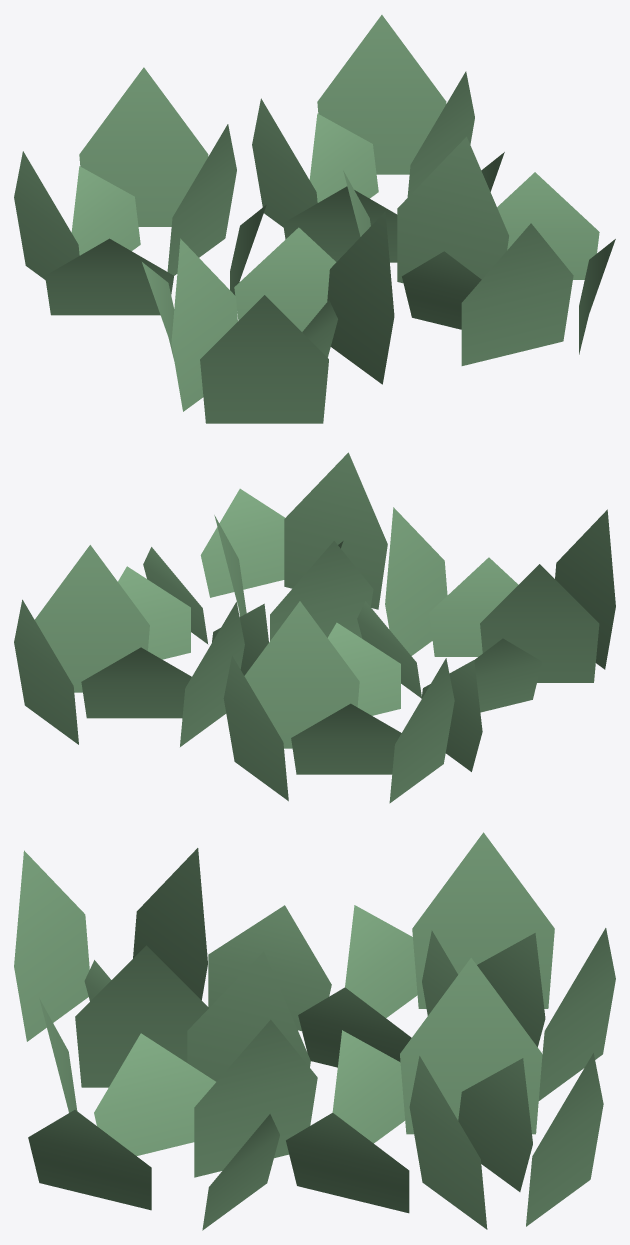
File: tuft_c.glb
3 views of the same model, one above another, from view 1: azimuth 30°, elevation 25°; view 2: azimuth 150°, elevation 25°; view 3: azimuth 270°, elevation 25° (orthographic). The views are drawn at different scales.
Visible parts, largest first — view 1: tuft_c; view 2: tuft_c; view 3: tuft_c.
Boxes of the visible parts, x1,y1,x2,y2 form: tuft_c: (14,15,615,423); tuft_c: (14,452,615,803); tuft_c: (14,832,615,1230).
Size of the model in its own units: 15.63 by 4.68 by 16.
